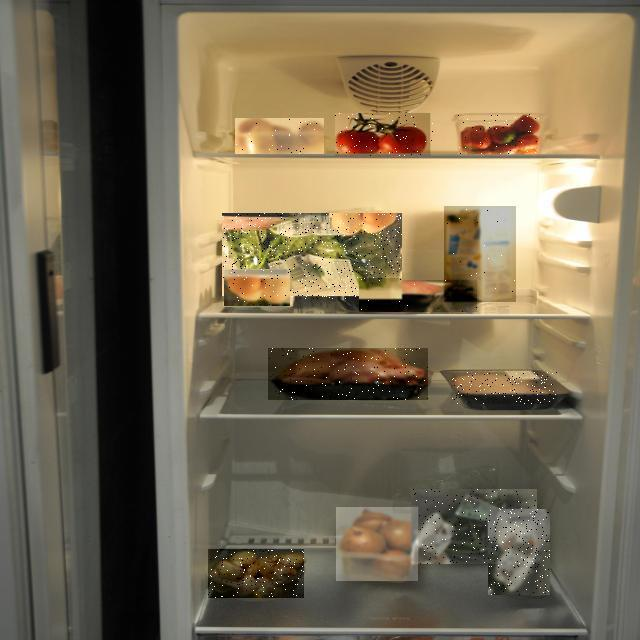Beans: (411, 489, 537, 564)
Eggs: (225, 273, 291, 307)
Flour: (489, 509, 551, 595)
Ground meat: (359, 280, 477, 312)
Meat: (269, 348, 429, 400), (451, 372, 557, 404)
Milk: (444, 206, 516, 302)
Mushroom: (208, 549, 304, 598)
Onion: (336, 507, 418, 581)
Potatoes: (235, 119, 324, 155)
Spinach: (222, 214, 402, 300)
Straw Berry: (458, 115, 540, 157)
Tomato Paste: (336, 113, 434, 156)
